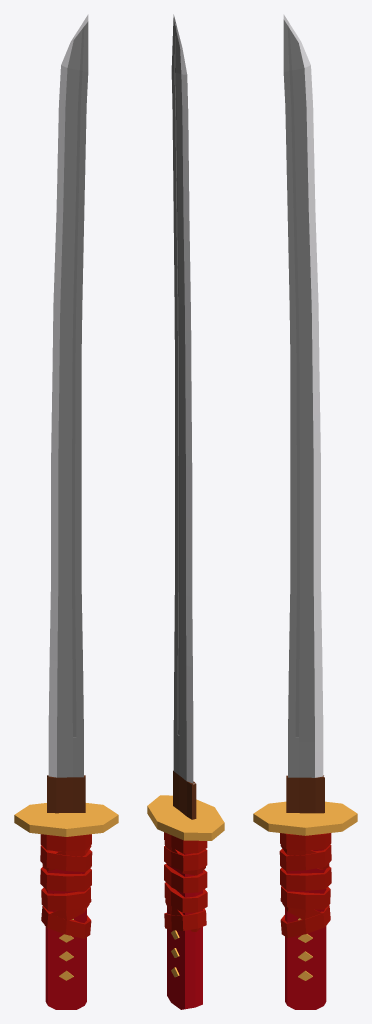
Rendered from Katana.glb.
The picture shows the model from 3 angles, left to right: view 1: azimuth 90°, elevation 25°; view 2: azimuth 210°, elevation 25°; view 3: azimuth 270°, elevation 25°; orthographic projection.
Parts seen in each view (by area): view 1: Katana; view 2: Katana; view 3: Katana.
Part boxes in pixels (x1=…): Katana: x1=14, y1=14, x2=118, y2=1009; Katana: x1=147, y1=14, x2=224, y2=1009; Katana: x1=253, y1=14, x2=357, y2=1009.
Bounding box in the file's own units: 593 × 9658 × 921.
